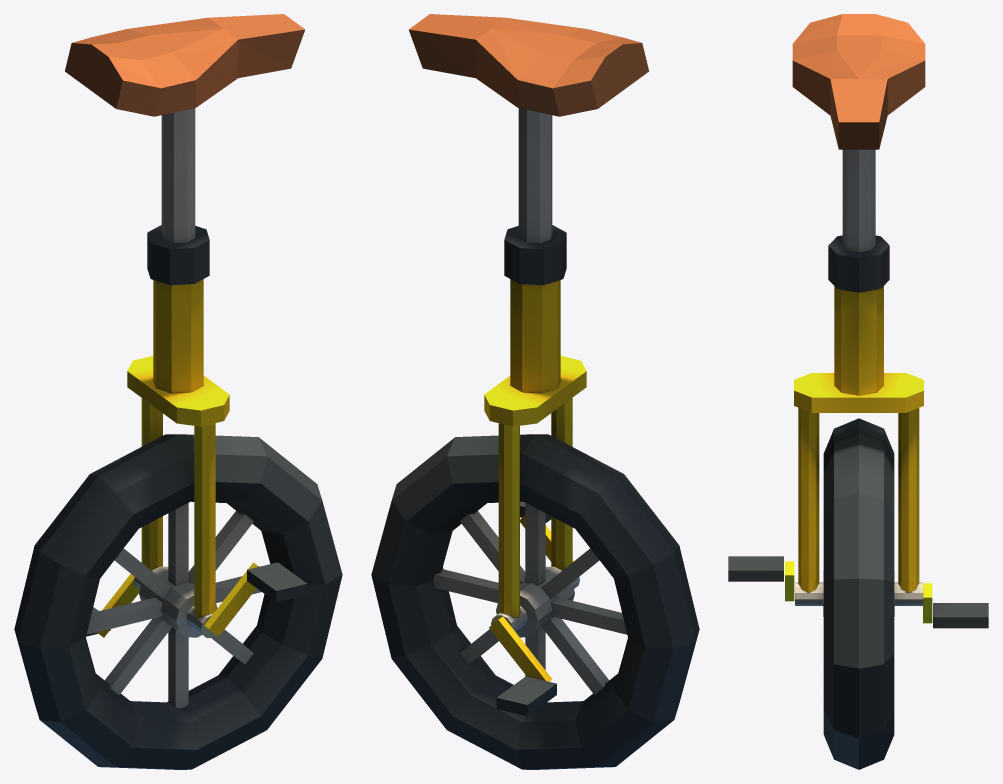
Rendered from 07aba339-d312-45d2-b2ce-7291a2233a53.glb.
The picture shows the model from 3 angles, left to right: view 1: azimuth 30°, elevation 25°; view 2: azimuth 150°, elevation 25°; view 3: azimuth 270°, elevation 25°; orthographic projection. The views are drawn at different scales.
Visible parts, largest first — view 1: PUSHILIN_Unicycle_Torus.001; view 2: PUSHILIN_Unicycle_Torus.001; view 3: PUSHILIN_Unicycle_Torus.001.
Part boxes in pixels (x1=…): PUSHILIN_Unicycle_Torus.001: x1=14, y1=14, x2=342, y2=769; PUSHILIN_Unicycle_Torus.001: x1=371, y1=14, x2=699, y2=769; PUSHILIN_Unicycle_Torus.001: x1=728, y1=14, x2=988, y2=769.
Bounding box in the file's own units: 1.06 × 2.34 × 0.7859.
1 material, 1 textured.
